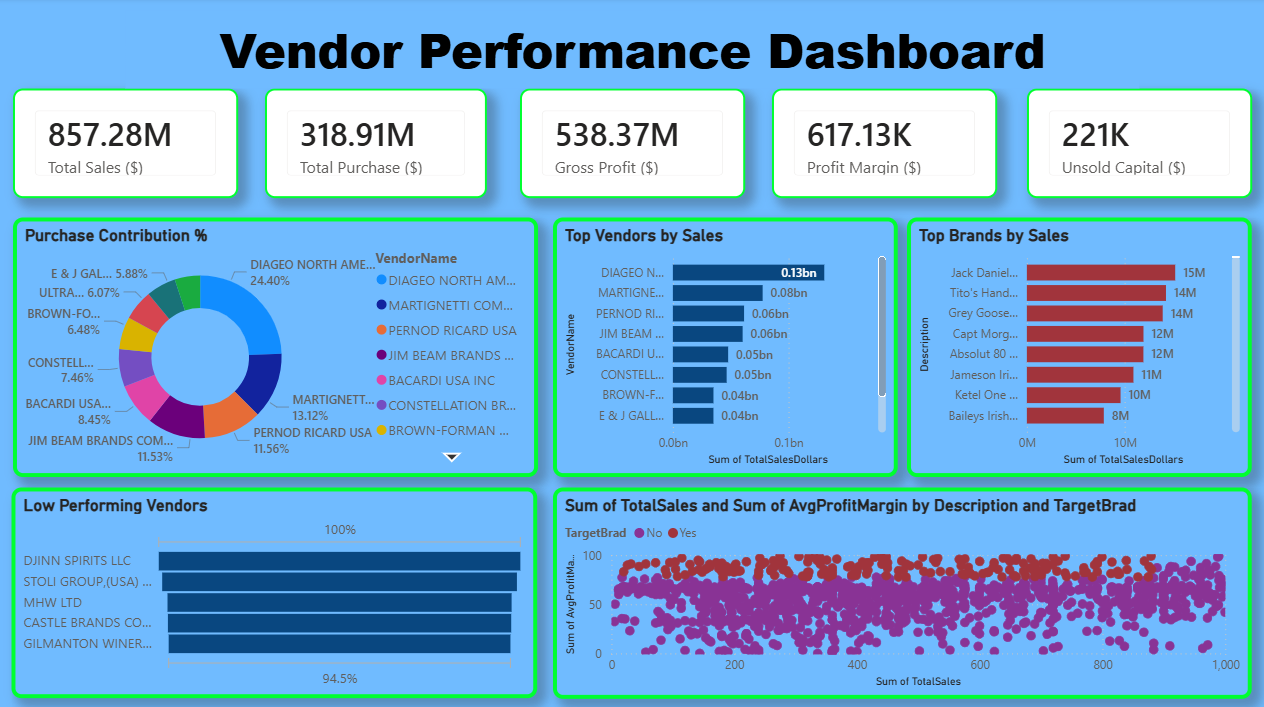

This screenshot's page, from the dashboard's own definition file:
{"tool":"powerbi","page":{"name":"Page 1","canvas":[1280,720],"ordinal":0},"visuals":[{"type":"cardVisual","fields":{"Data":["Sum(vendor_sales_summary.TotalSalesDollars)"]},"box":[15.1,92.4,227.1,110.5],"z":0},{"type":"cardVisual","fields":{"Data":["Sum(vendor_sales_summary.TotalPurchaseDollars)"]},"box":[269.5,92.4,224.1,110.5],"z":1000},{"type":"cardVisual","fields":{"Data":["Sum(vendor_sales_summary.GrossProfit)"]},"box":[526.9,92.4,227.1,110.5],"z":2000},{"type":"cardVisual","fields":{"Data":["Sum(vendor_sales_summary.ProfitMargin)"]},"box":[781.3,92.4,227.1,110.5],"z":3000},{"type":"cardVisual","fields":{"Data":["Sum(vendor_sales_summary.UnsoldInventoryValue)"]},"box":[1038.7,92.4,227.1,110.5],"z":4000},{"type":"donutChart","title":"Purchase Contribution %","fields":{"Category":["PurchaseContribution.VendorName"],"Y":["Sum(PurchaseContribution.PurchaseContribution%)"]},"box":[15.1,222.6,530,262],"z":5000},{"type":"clusteredBarChart","title":"Top Vendors by Sales","fields":{"Category":["vendor_sales_summary.VendorName"],"Y":["Sum(vendor_sales_summary.TotalSalesDollars)"]},"box":[560.3,222.6,348.3,262],"z":6000},{"type":"clusteredBarChart","title":"Top Brands by Sales","fields":{"Category":["vendor_sales_summary.Description"],"Y":["Sum(vendor_sales_summary.TotalSalesDollars)"]},"box":[917.5,222.9,348,261.7],"z":7000},{"type":"funnel","title":"Low Performing Vendors","fields":{"Category":["LowTurnoverVendor.VendorName"],"Y":["Sum(LowTurnoverVendor.AvgStockTurnover)"]},"box":[14.4,494.7,530.7,212.8],"z":8000},{"type":"scatterChart","fields":{"Category":["BrandPerformance.Description"],"X":["Sum(BrandPerformance.TotalSales)"],"Y":["Sum(BrandPerformance.AvgProfitMargin)"],"Series":["BrandPerformance.TargetBrad"]},"box":[560.3,495.1,705.6,213.5],"z":9000},{"type":"textbox","box":[128.7,13.6,1023.6,78.7],"z":9001}]}

Visuals, with their boxes in screenshot pixels (x1, y1, x2, y2), scaled from the page's 1280x720 canvas onto the 1264x707 screenshot:
cardVisual - Sum(vendor_sales_summary.TotalSalesDollars): detection(15, 91, 239, 199)
cardVisual - Sum(vendor_sales_summary.TotalPurchaseDollars): detection(266, 91, 487, 199)
cardVisual - Sum(vendor_sales_summary.GrossProfit): detection(520, 91, 745, 199)
cardVisual - Sum(vendor_sales_summary.ProfitMargin): detection(772, 91, 996, 199)
cardVisual - Sum(vendor_sales_summary.UnsoldInventoryValue): detection(1026, 91, 1250, 199)
"Purchase Contribution %" donutChart: detection(15, 219, 538, 476)
"Top Vendors by Sales" clusteredBarChart: detection(553, 219, 897, 476)
"Top Brands by Sales" clusteredBarChart: detection(906, 219, 1250, 476)
"Low Performing Vendors" funnel: detection(14, 486, 538, 695)
scatterChart - BrandPerformance.Description x Sum(BrandPerformance.TotalSales): detection(553, 486, 1250, 696)
textbox: detection(127, 13, 1138, 91)
